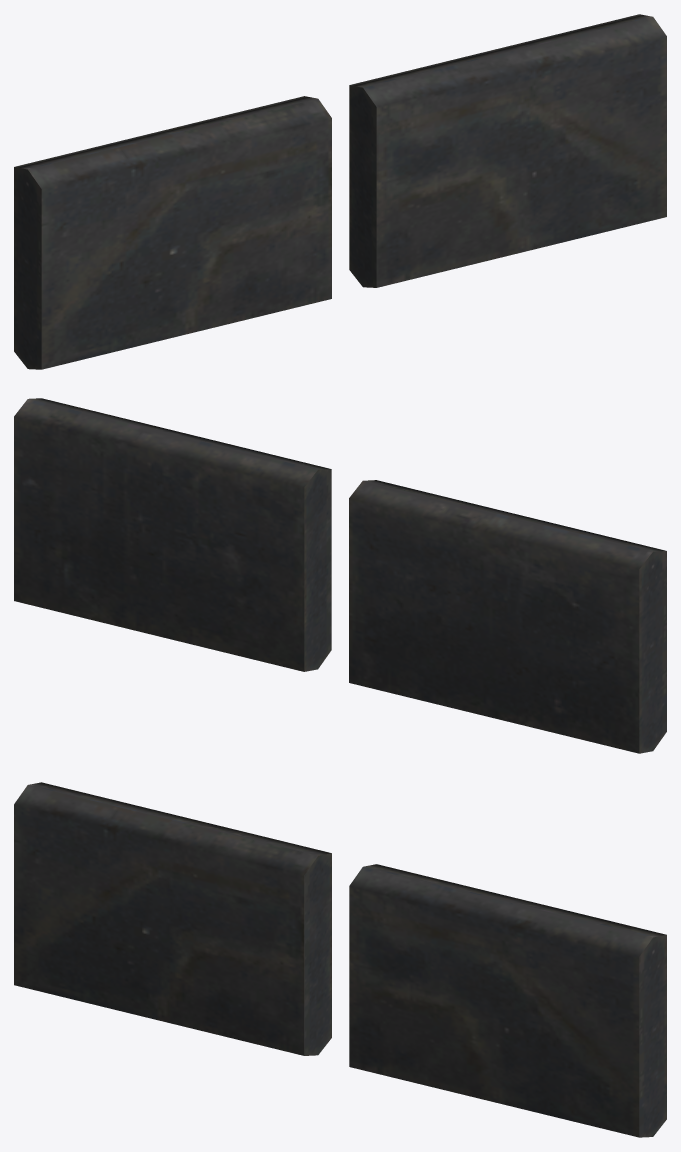
3 views of the same model, one above another, from view 1: azimuth 30°, elevation 25°; view 2: azimuth 150°, elevation 25°; view 3: azimuth 330°, elevation 25° (orthographic).
Parts seen in each view (by area): view 1: set_0_group_0; view 2: set_0_group_0; view 3: set_0_group_0.
Part boxes in pixels (box(x1,y1,x2,y2)): set_0_group_0: box(14, 14, 666, 369); set_0_group_0: box(14, 398, 666, 753); set_0_group_0: box(14, 782, 666, 1137).
Size of the model in its own units: 0.4896 by 0.1494 by 0.0374.
Materials: 1 (1 with a texture image).
